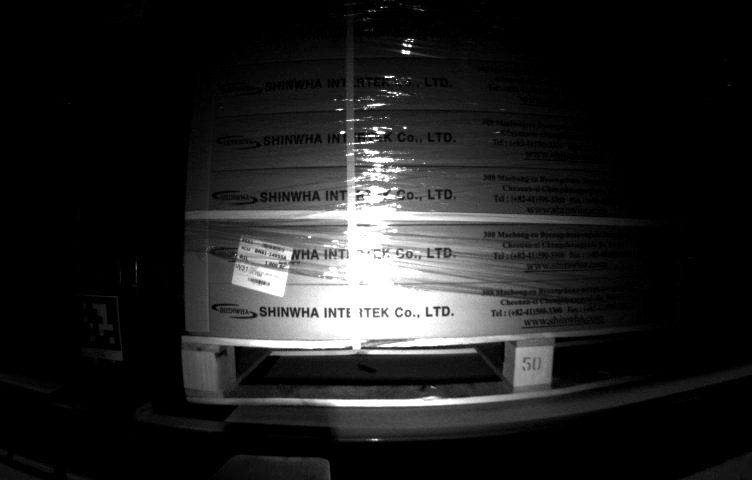True Barcode: (231, 235, 297, 299)
